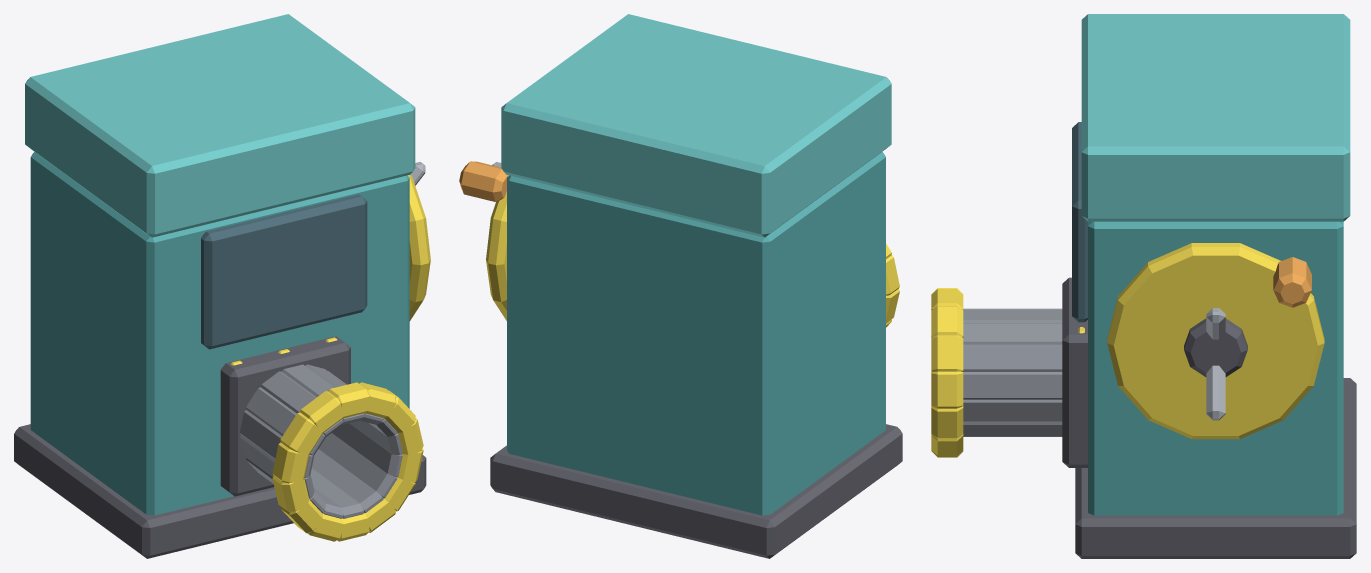
Rendered from crank.glb.
3 renders of one model, left to right at view 1: azimuth 30°, elevation 25°; view 2: azimuth 150°, elevation 25°; view 3: azimuth 270°, elevation 25°, orthographic. The views are drawn at different scales.
Parts seen in each view (by area): view 1: crank; view 2: crank; view 3: crank.
Boxes of the visible parts, <box> form: crank: <box>14,14,430,558</box>; crank: <box>459,14,902,558</box>; crank: <box>931,14,1356,558</box>.
Size of the model in its own units: 1.31 by 1.41 by 1.33.
